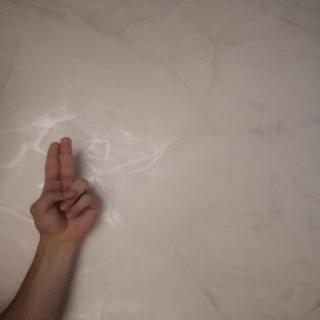TA: (17, 131, 110, 245)
